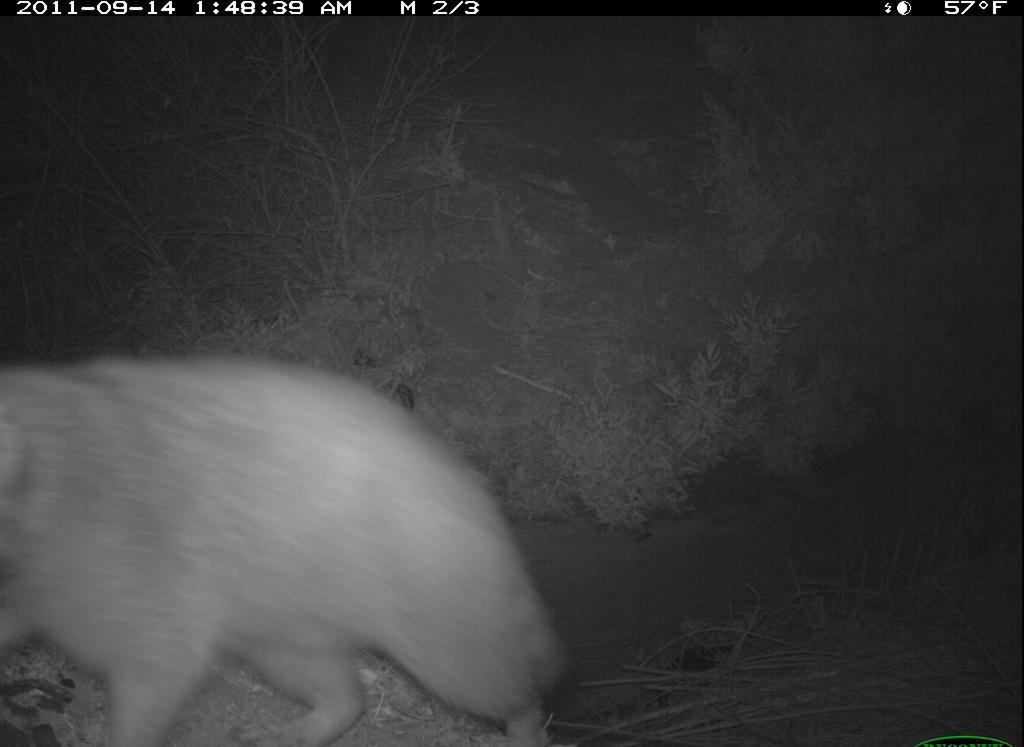raccoon: (3, 341, 574, 740)
